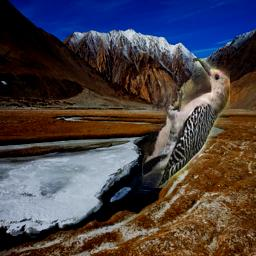Woodpecker: (142, 58, 230, 188)
